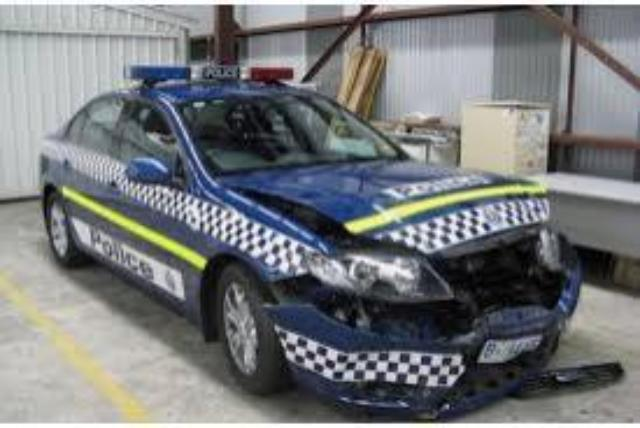police: (40, 63, 584, 419)
